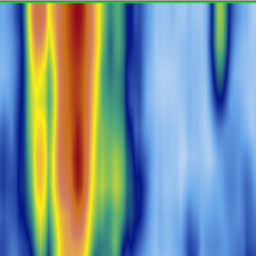defect: (51, 2, 138, 256), (14, 1, 51, 256), (209, 1, 233, 127), (242, 183, 254, 256), (184, 222, 199, 256)
